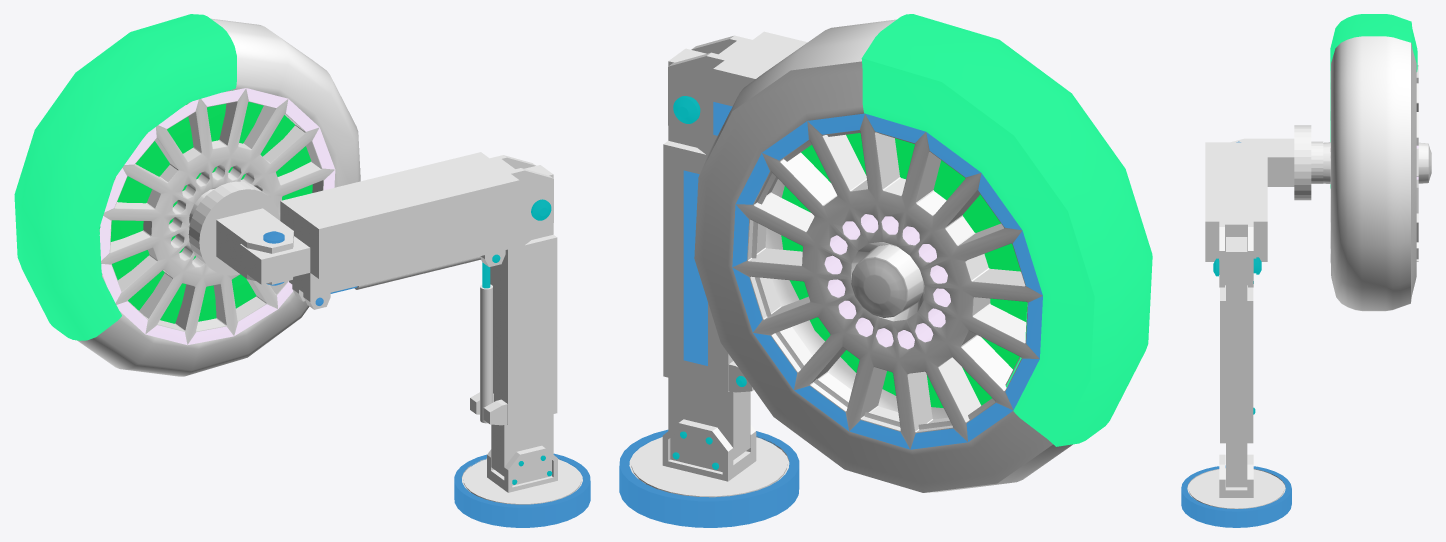
The picture shows the model from 3 angles, left to right: view 1: azimuth 30°, elevation 25°; view 2: azimuth 150°, elevation 25°; view 3: azimuth 270°, elevation 25°; orthographic projection. The views are drawn at different scales.
Visible parts, largest first — view 1: ban_2.017, ban_2.019, Plane.031, Cube.005, ban_2.018, Plane.030, Circle.077, Circle.078, Plane.035, Cylinder.019, Plane.032, Circle.088; view 2: ban_2.017, ban_2.020, Cube.005, Plane.030, Plane.031, Circle.077, ban_2.018, Circle.088; view 3: ban_2.017, Cube.005, Plane.031, Plane.030, Circle.077, Circle.078, Plane.035, ban_2.020, ban_2.019.
Part boxes in pixels (x1,y1,x2,y2): ban_2.017: (14,14,360,376); ban_2.019: (99,88,335,345); Plane.031: (240,152,553,297); Cube.005: (490,165,557,476); ban_2.018: (99,90,312,323); Plane.030: (461,445,582,504); Circle.077: (454,453,590,527); Circle.078: (188,181,279,275); Plane.035: (216,208,293,284); Cylinder.019: (480,284,492,423); Plane.032: (470,392,507,425); Circle.088: (482,199,552,484); ban_2.017: (694,14,1152,492); ban_2.020: (732,113,1042,449); Cube.005: (663,48,750,459); Plane.030: (629,419,789,497); Plane.031: (668,31,807,154); Circle.077: (619,429,799,527); ban_2.018: (781,133,1027,407); Circle.088: (672,96,746,469); ban_2.017: (1330,14,1417,311); Cube.005: (1220,237,1253,487); Plane.031: (1205,142,1267,287); Plane.030: (1187,454,1285,508); Circle.077: (1181,465,1291,527); Circle.078: (1294,125,1323,200); Plane.035: (1231,138,1294,186); ban_2.020: (1416,64,1431,261); ban_2.019: (1323,71,1330,262).
Bounding box in the file's own units: 22.69 × 21.78 × 13.01.
